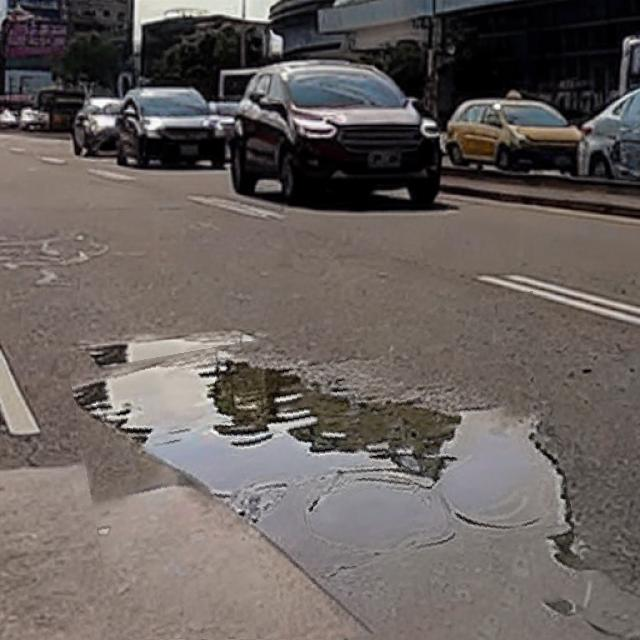puddle: (83, 311, 577, 640)
